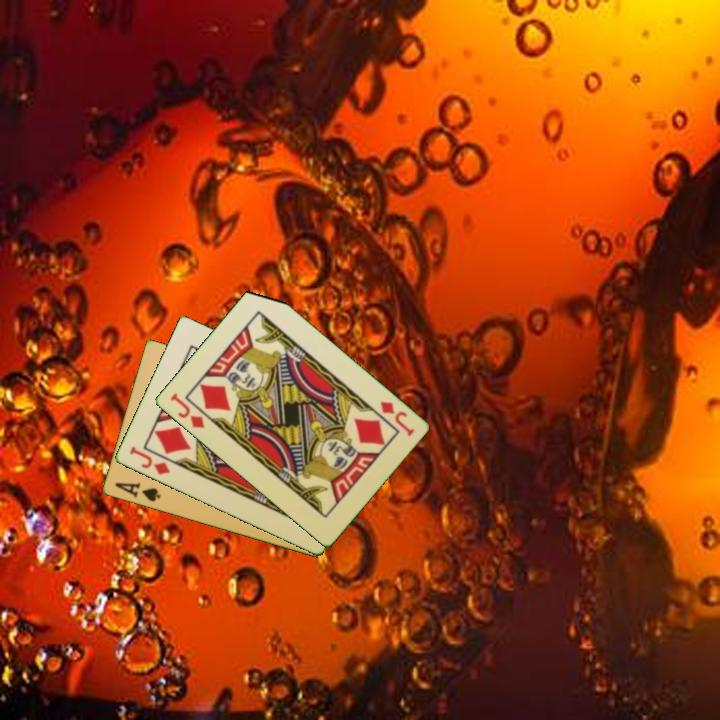As: (111, 479, 163, 505)
Jd: (166, 389, 207, 431), (376, 397, 417, 439), (126, 443, 172, 478)
